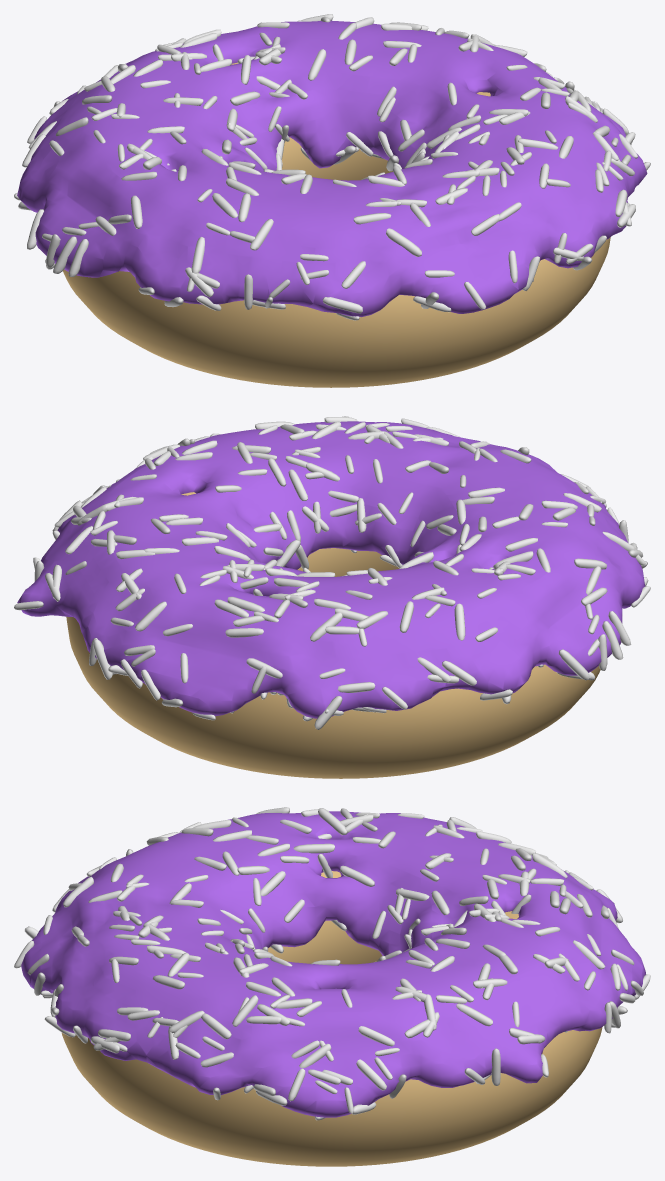
The model's file is donut.fbx.
The picture shows the model from 3 angles, top to bottom: view 1: azimuth 30°, elevation 25°; view 2: azimuth 150°, elevation 25°; view 3: azimuth 270°, elevation 25°; orthographic projection. The views are drawn at different scales.
Parts seen in each view (by area): view 1: Sprinkles, Torus.004; view 2: Sprinkles, Torus.004; view 3: Sprinkles, Torus.004.
Boxes of the visible parts, x1,y1,x2,y2 form: Sprinkles: [17, 20, 647, 317]; Torus.004: [63, 62, 610, 387]; Sprinkles: [17, 421, 645, 718]; Torus.004: [66, 492, 600, 778]; Sprinkles: [21, 811, 645, 1117]; Torus.004: [61, 871, 602, 1166].
Bounding box in the file's own units: 342 × 108 × 342.
